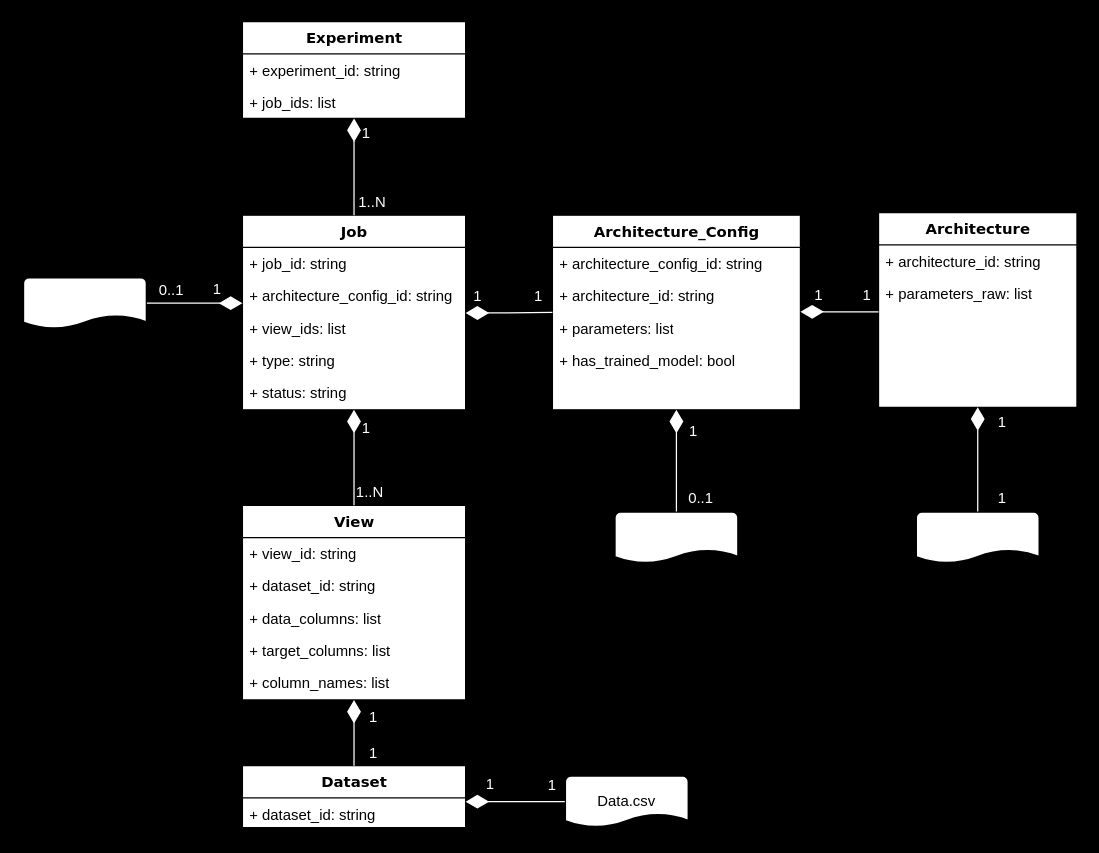
Image size: 1099x853. Some labels were removed from this diagram. The box of each missing label's shape, as (x1, y1, x2, y2) in pixels:
Achitecture.h5: (613, 510, 739, 564)
Achitecture.py: (914, 510, 1040, 564)
Log.log: (21, 275, 148, 330)
